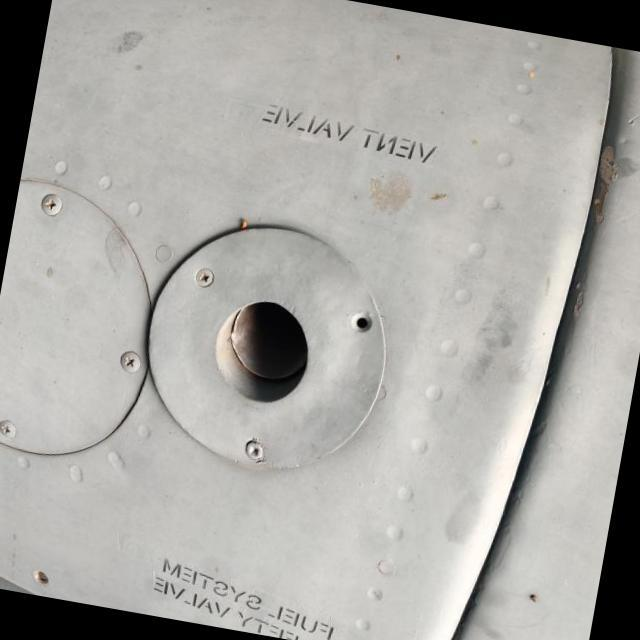Fastener Damage: (328, 291, 397, 358)
